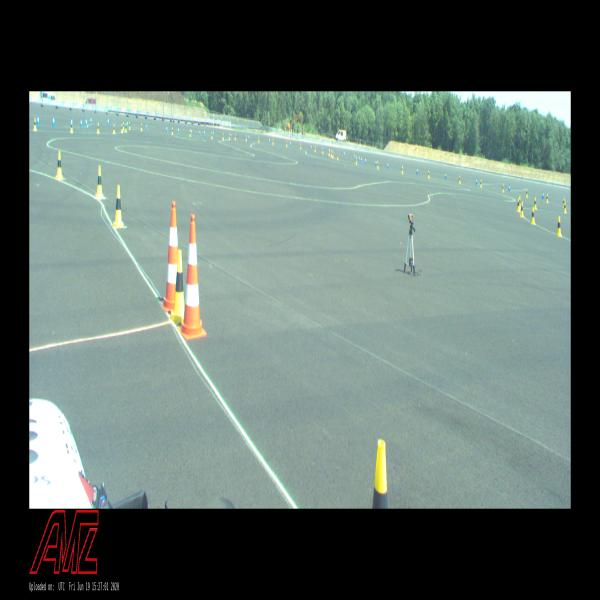blue_cone: (52, 115, 55, 126), (386, 160, 389, 170), (541, 190, 544, 200), (508, 183, 511, 192), (475, 178, 478, 186), (444, 172, 447, 180), (37, 115, 39, 126), (375, 158, 377, 168), (416, 166, 418, 176), (85, 117, 87, 126), (80, 118, 82, 127), (107, 118, 109, 126), (90, 116, 92, 124), (358, 154, 360, 162), (354, 153, 356, 160), (166, 125, 168, 132), (213, 130, 215, 137), (126, 120, 128, 127), (310, 144, 312, 151), (146, 123, 148, 129), (177, 127, 179, 133), (248, 134, 250, 140), (230, 132, 232, 138), (361, 155, 362, 164), (365, 157, 366, 165), (72, 118, 73, 126), (290, 140, 291, 148), (199, 129, 200, 136), (204, 129, 205, 136), (344, 151, 345, 157), (269, 138, 270, 144)
large_orange_cone: (177, 215, 207, 341), (161, 202, 178, 312)
yellow_cone: (372, 438, 389, 509), (171, 250, 184, 321), (112, 185, 124, 230), (95, 164, 103, 198), (55, 149, 63, 181), (557, 216, 561, 238), (531, 206, 535, 225), (520, 201, 524, 218), (516, 198, 520, 213), (533, 196, 537, 209), (563, 201, 567, 214), (32, 118, 36, 130), (70, 120, 73, 133), (401, 164, 404, 176), (546, 193, 549, 204), (427, 169, 430, 180), (355, 156, 358, 166), (479, 179, 482, 188), (112, 124, 115, 133), (563, 197, 565, 209), (459, 174, 461, 185), (526, 188, 528, 199), (502, 183, 504, 194), (377, 160, 379, 170), (97, 123, 99, 133), (336, 151, 338, 161), (128, 121, 130, 130), (300, 142, 302, 151), (122, 123, 125, 129), (322, 147, 324, 155), (314, 145, 316, 153), (286, 140, 288, 148), (125, 124, 127, 132), (328, 148, 330, 156), (121, 124, 123, 132), (210, 132, 212, 139), (234, 133, 236, 140), (228, 133, 230, 140), (245, 134, 247, 141), (222, 133, 224, 140), (272, 138, 274, 144), (140, 124, 142, 130), (331, 149, 332, 158), (172, 126, 173, 134), (258, 136, 259, 144), (190, 130, 191, 136)
